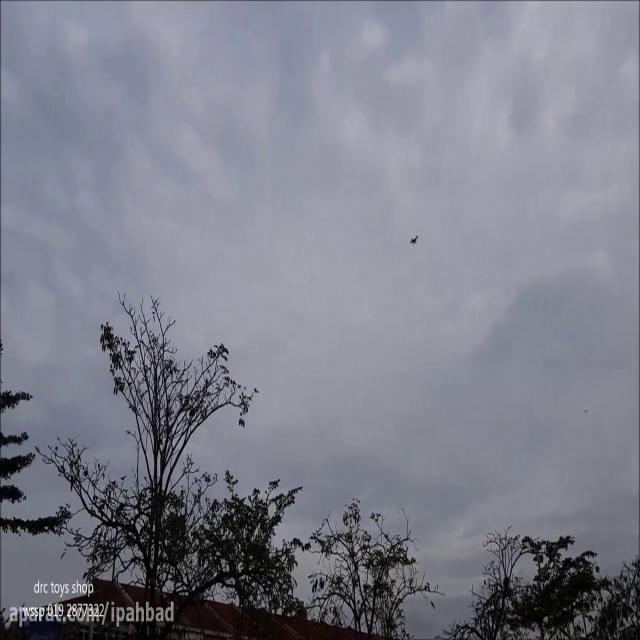drone: (408, 230, 420, 246)
